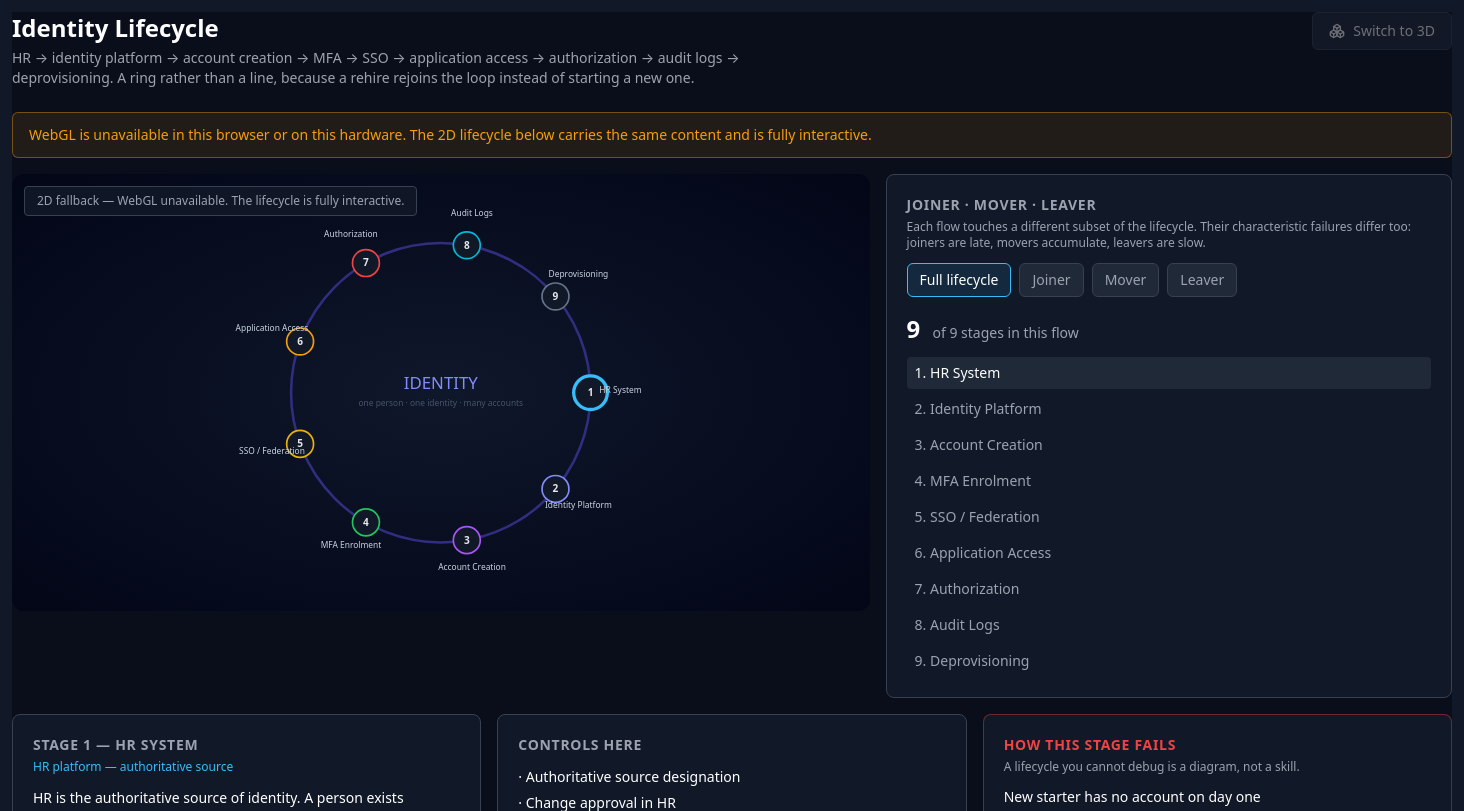
Test case: IdentityView › shows a stage with what it produces, its controls, and how it fails
Click the button "9. Deprovisioning" at point(980, 660), box [907,645,1431,677]
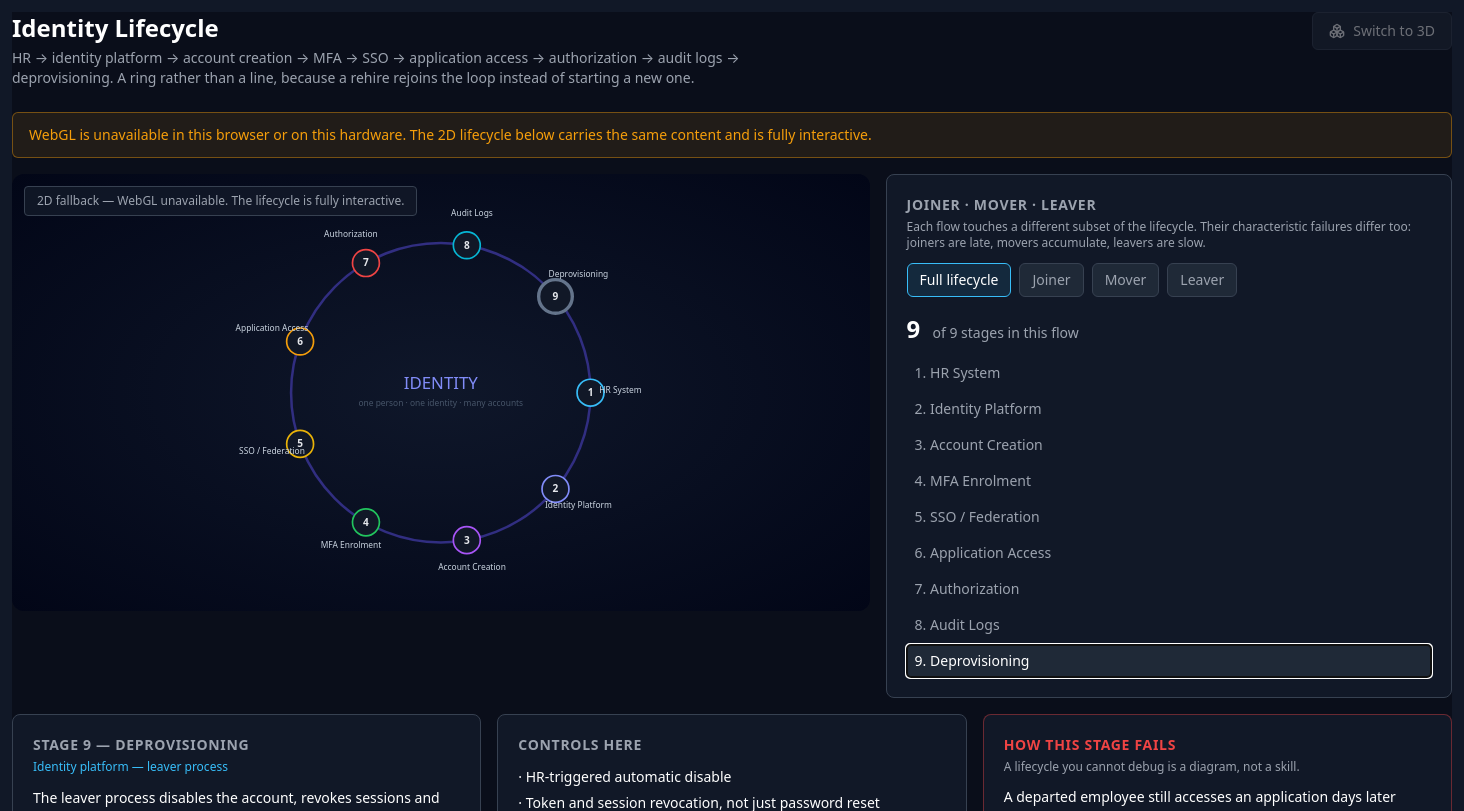
Expected: the heading "How this stage fails" is shown, [1004,735,1176,754]
Expected: the heading "Stage 9 — Deprovisioning" is shown, [33,735,249,754]
Expected: the text "A departed employee still accesses an application days later" is shown, [1004,787,1431,807]
